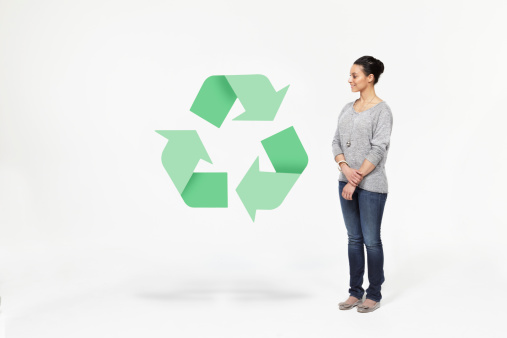em pe: (334, 57, 400, 312)
